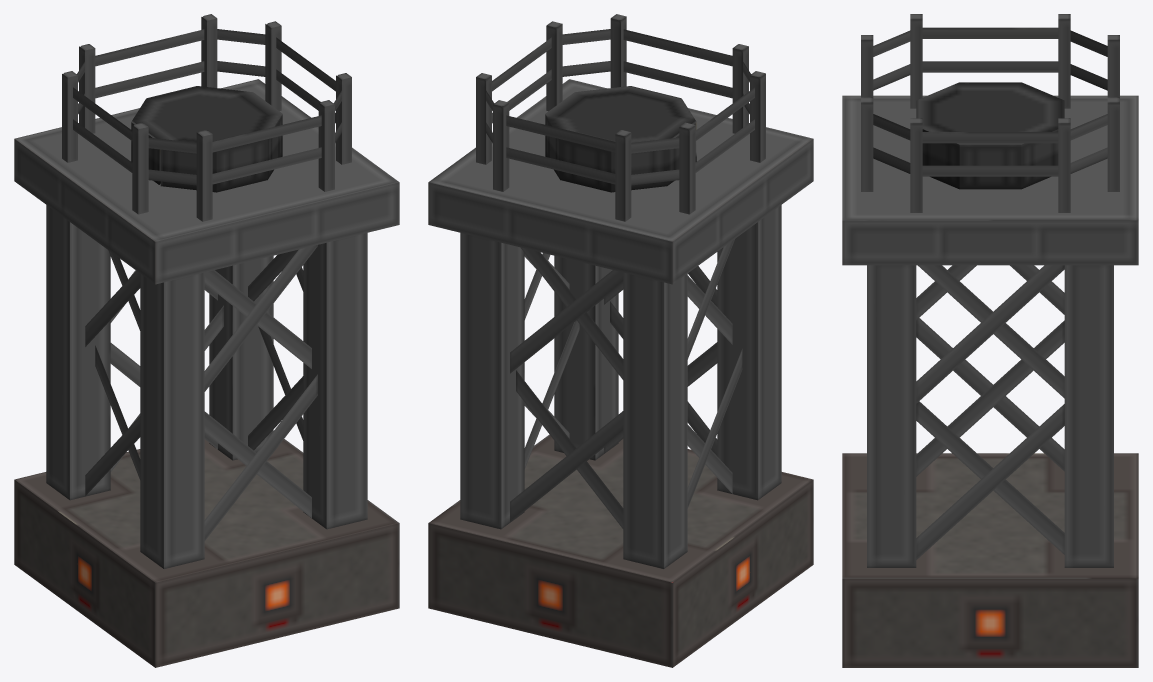
File: radar_large_base.obj
3 views of the same model, side by side, from view 1: azimuth 30°, elevation 25°; view 2: azimuth 150°, elevation 25°; view 3: azimuth 270°, elevation 25° (orthographic). The views are drawn at different scales.
Visible parts, largest first — view 1: Radar; view 2: Radar; view 3: Radar.
Part boxes in pixels (box(x1,y1,x2,y2)): Radar: box(14, 14, 399, 667); Radar: box(428, 14, 813, 667); Radar: box(842, 14, 1138, 667).
Size of the model in its own units: 3 by 6 by 3.
